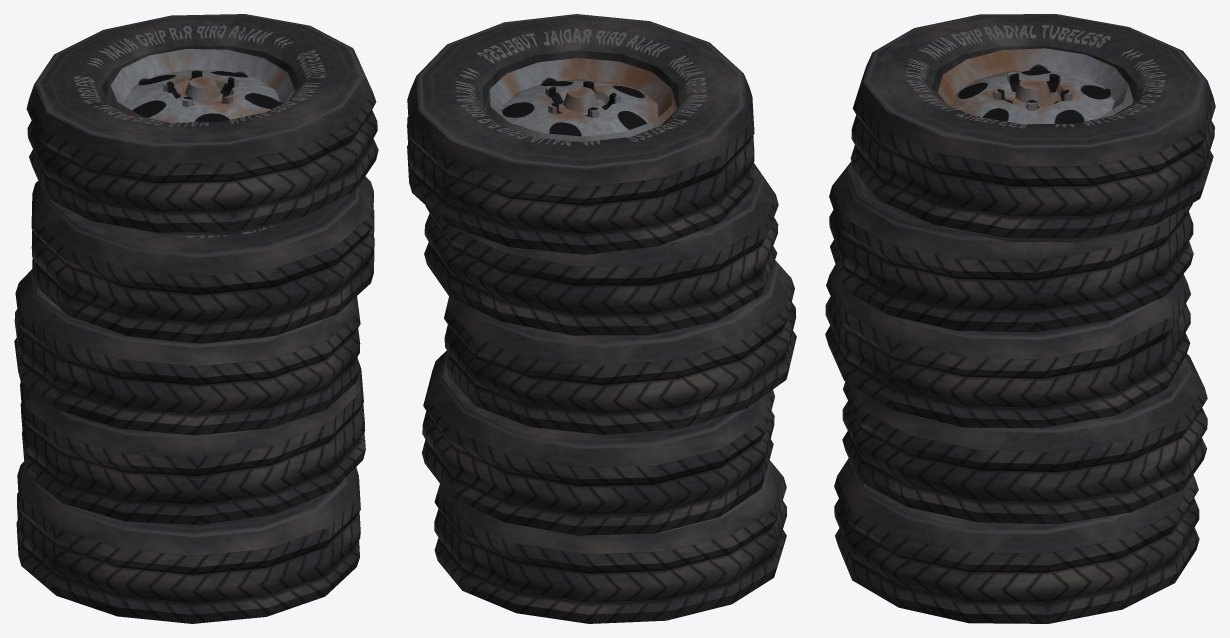
File: prop_soft_tyres-CBFZG3Rn.glb
The picture shows the model from 3 angles, left to right: view 1: azimuth 30°, elevation 25°; view 2: azimuth 150°, elevation 25°; view 3: azimuth 270°, elevation 25°; orthographic projection. The views are drawn at different scales.
Parts seen in each view (by area): view 1: prop_soft_tyres_body; view 2: prop_soft_tyres_body; view 3: prop_soft_tyres_body.
Boxes of the visible parts, x1=… form: prop_soft_tyres_body: x1=14, y1=14, x2=378, y2=623; prop_soft_tyres_body: x1=407, y1=14, x2=796, y2=623; prop_soft_tyres_body: x1=825, y1=14, x2=1215, y2=623.
Size of the model in its own units: 0.7235 by 1.03 by 0.7165.
Materials: 1 (1 with a texture image).
